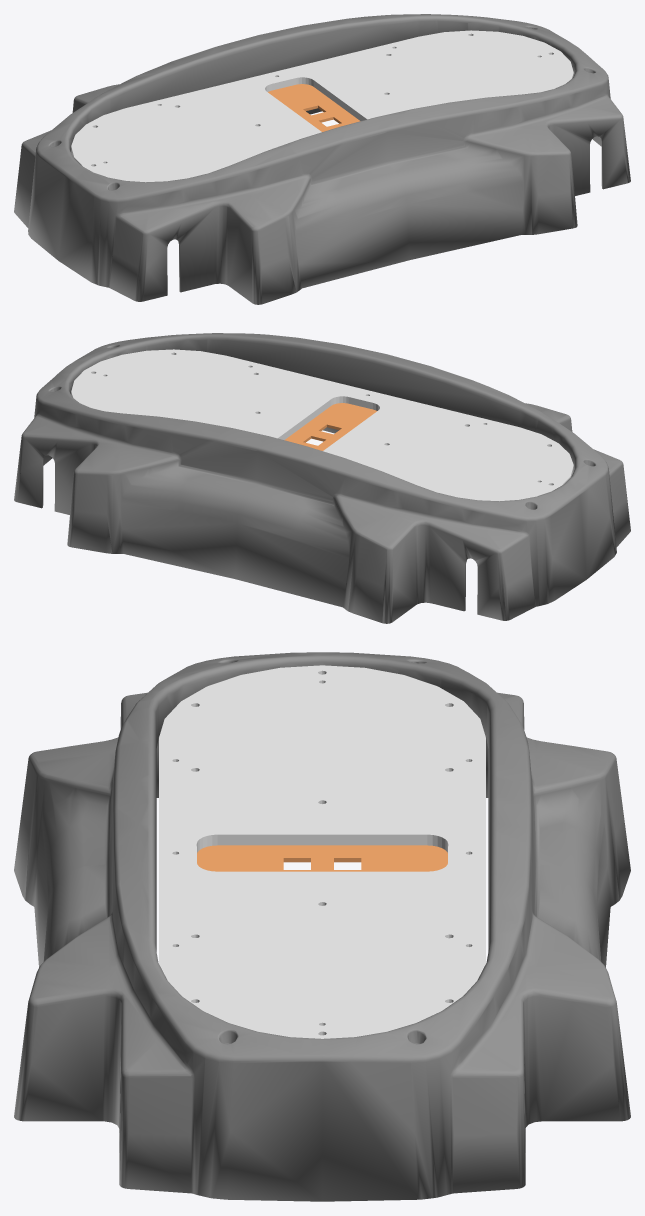
3 views of the same model, one above another, from view 1: azimuth 30°, elevation 25°; view 2: azimuth 150°, elevation 25°; view 3: azimuth 270°, elevation 25° (orthographic). The views are drawn at different scales.
Parts seen in each view (by area): view 1: Frame_004; view 2: Frame_004; view 3: Frame_004.
Boxes of the visible parts, left/top/right/bottom form: Frame_004: left=14, top=14, right=630, bottom=304; Frame_004: left=14, top=333, right=630, bottom=623; Frame_004: left=14, top=652, right=630, bottom=1201.
Bounding box in the file's own units: 0.5701 × 0.3571 × 0.122.
